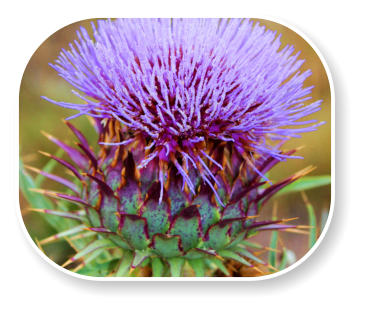thistle: (56, 22, 311, 260)
